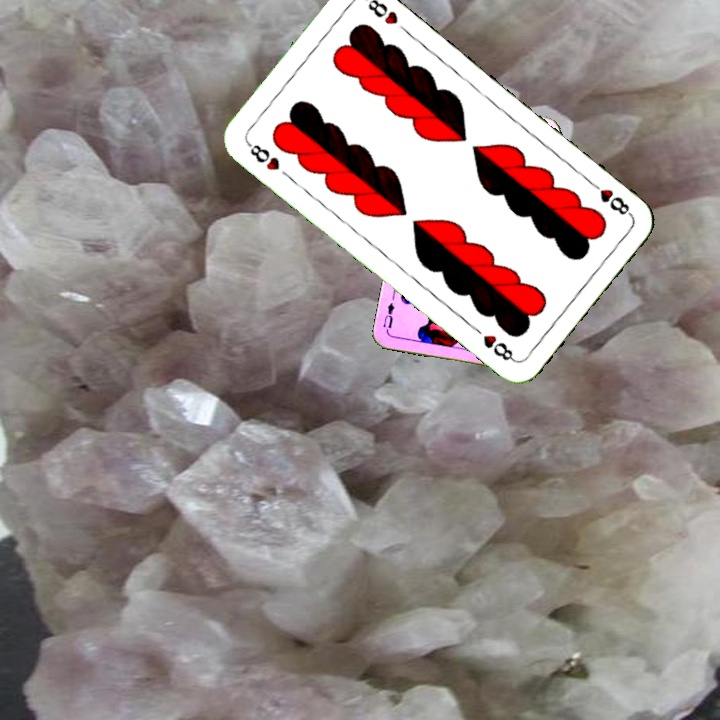H8: (585, 177, 635, 219), (242, 137, 283, 173)
